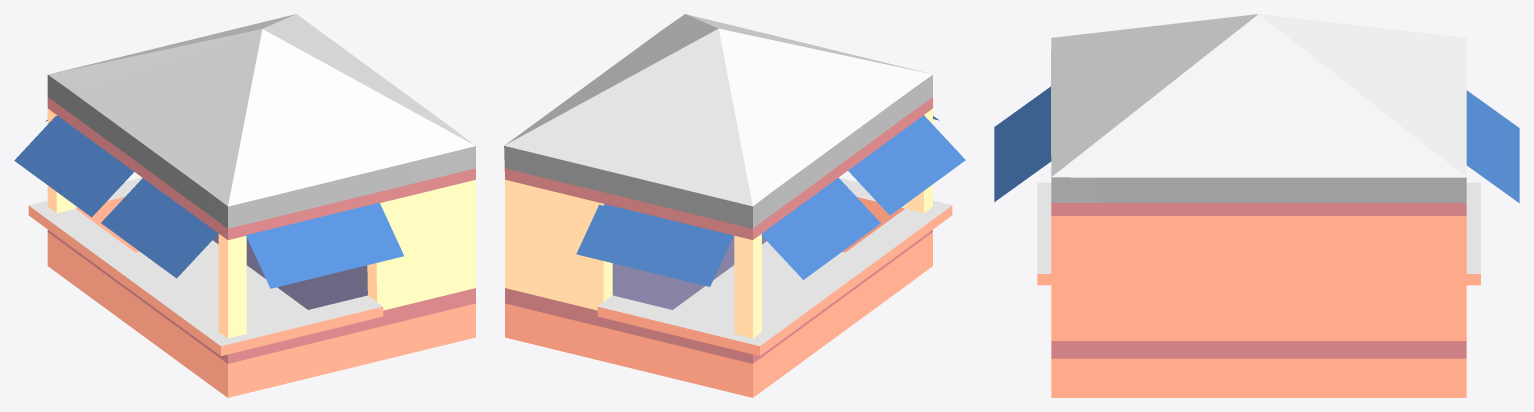
The model's file is beach_house02.fbx.
The picture shows the model from 3 angles, left to right: view 1: azimuth 30°, elevation 25°; view 2: azimuth 150°, elevation 25°; view 3: azimuth 270°, elevation 25°; orthographic projection. The views are drawn at different scales.
Parts seen in each view (by area): view 1: house_roof, house_canopy, house_counter, house_support, house_shadows, house_back; view 2: house_roof, house_canopy, house_counter, house_support, house_shadows, house_back; view 3: house_roof, house_counter, house_shadows, house_canopy.
Boxes of the visible parts, x1=… form: house_roof: x1=29, y1=14, x2=475, y2=345; house_canopy: x1=14, y1=115, x2=403, y2=288; house_counter: x1=28, y1=196, x2=475, y2=397; house_support: x1=47, y1=108, x2=475, y2=338; house_shadows: x1=47, y1=97, x2=475, y2=363; house_back: x1=213, y1=234, x2=367, y2=309; house_roof: x1=504, y1=14, x2=951, y2=345; house_canopy: x1=576, y1=115, x2=965, y2=286; house_counter: x1=505, y1=197, x2=952, y2=397; house_support: x1=505, y1=108, x2=932, y2=338; house_shadows: x1=504, y1=97, x2=932, y2=363; house_back: x1=612, y1=236, x2=766, y2=309; house_roof: x1=1037, y1=14, x2=1480, y2=273; house_counter: x1=1037, y1=216, x2=1480, y2=397; house_shadows: x1=1051, y1=203, x2=1466, y2=358; house_canopy: x1=994, y1=86, x2=1519, y2=202.
Size of the model in its own units: 2.96 by 2.65 by 4.01.
